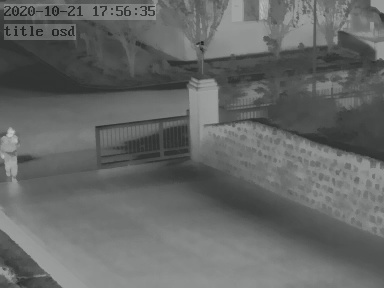person: (1, 124, 20, 180)
